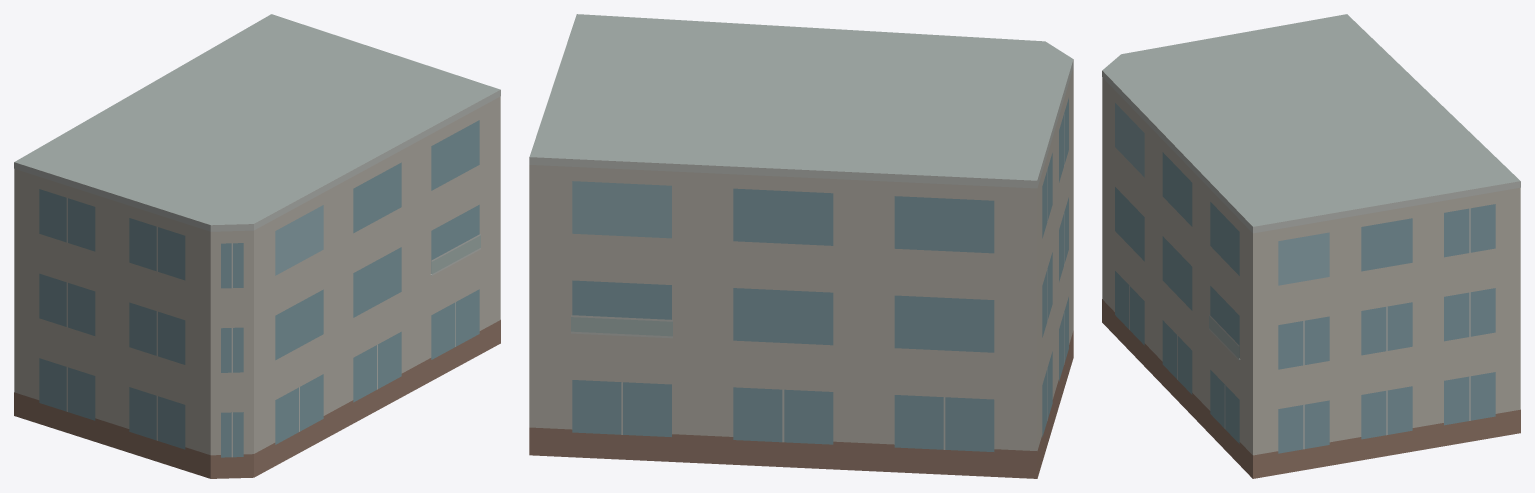
Rendered from survey-upis-32762625.glb.
3 views of the same model, side by side, from view 1: azimuth 30°, elevation 25°; view 2: azimuth 150°, elevation 25°; view 3: azimuth 270°, elevation 25° (orthographic). The views are drawn at different scales.
Parts seen in each view (by area): view 1: survey-upis-32762625.tmp; view 2: survey-upis-32762625.tmp; view 3: survey-upis-32762625.tmp.
Boxes of the visible parts, <box> form: survey-upis-32762625.tmp: <box>14,14,500,478</box>; survey-upis-32762625.tmp: <box>529,14,1073,478</box>; survey-upis-32762625.tmp: <box>1102,14,1520,478</box>.
Bounding box in the file's own units: 17.04 × 9.4 × 14.16.
